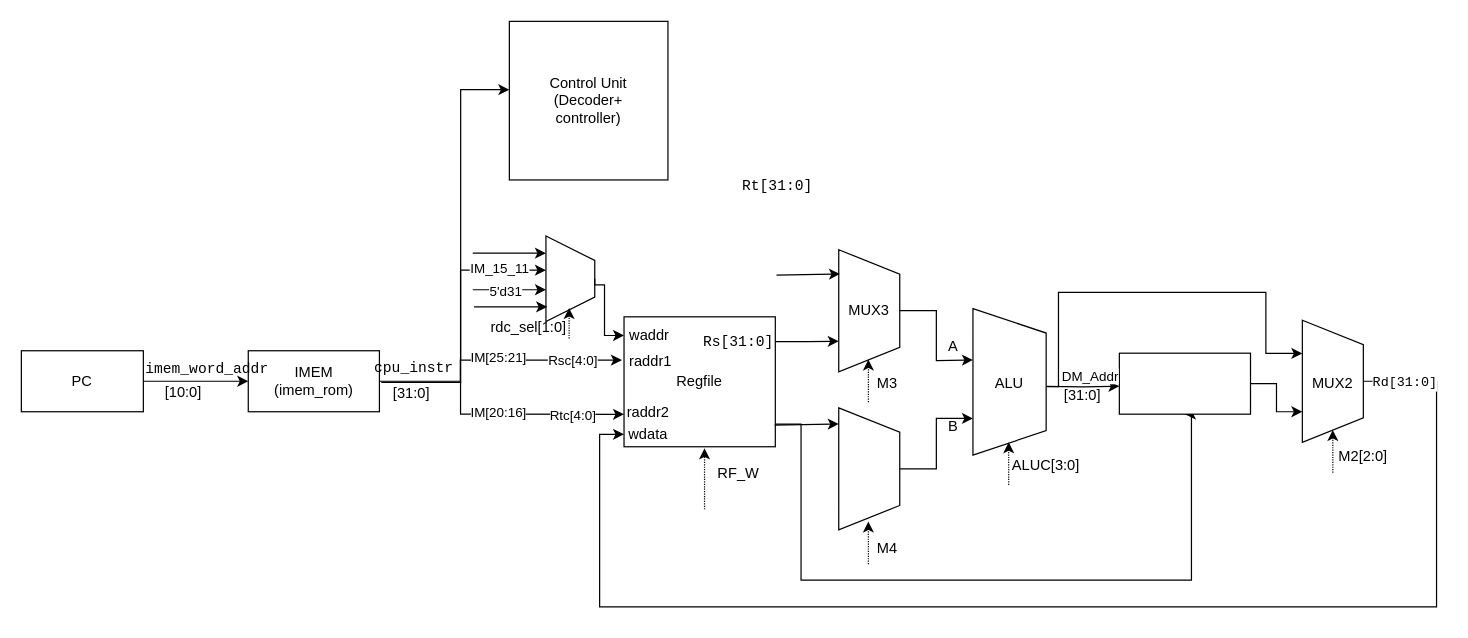
Some shapes in this 1468 by 638 pixel diagram are drawn without their labels. The centre of each missing label's shape, as x and y in pixels:
"DMEM" belongs at (1184,383).
"MUX4" belongs at (869,468).
"Rdc" belongs at (570,278).
